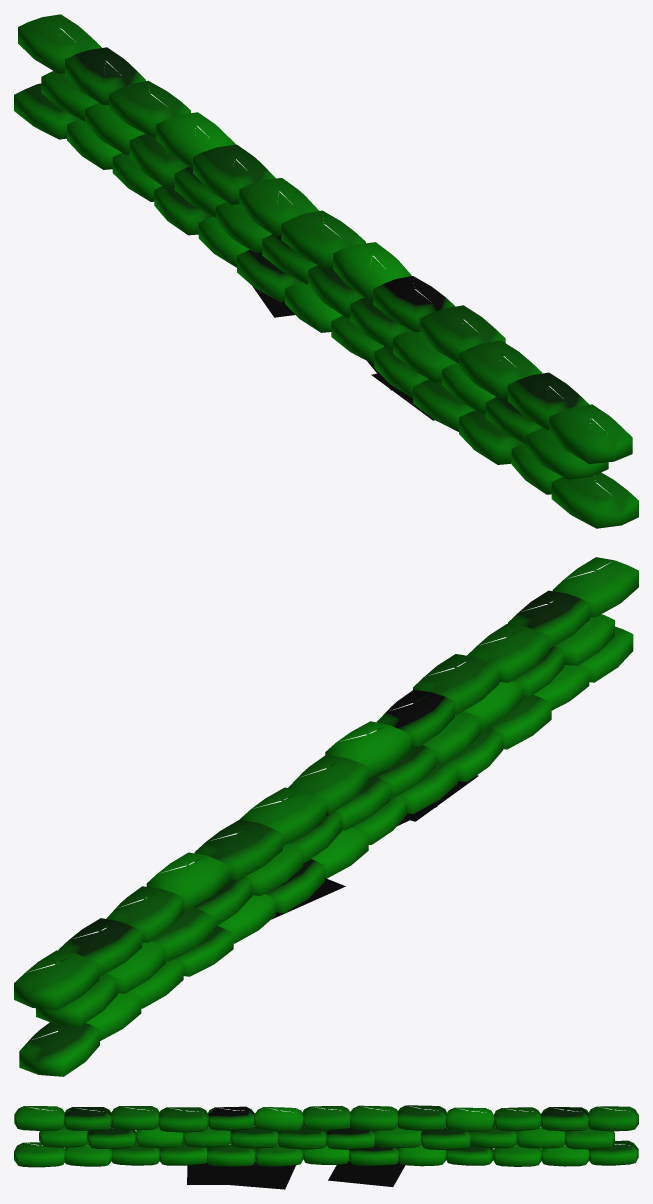
Rendered from sandbagwall.glb.
3 renders of one model, top to bottom at view 1: azimuth 30°, elevation 25°; view 2: azimuth 150°, elevation 25°; view 3: azimuth 270°, elevation 25°, orthographic. The views are drawn at different scales.
Parts seen in each view (by area): view 1: lod0; view 2: lod0; view 3: lod0.
Boxes of the visible parts, box(x1,y1,x2,y2) form: lod0: box(14, 14, 638, 528); lod0: box(14, 557, 638, 1076); lod0: box(14, 1105, 638, 1189).
Size of what is drawn, in the model's own units: 1.16 by 0.7854 by 8.38.
